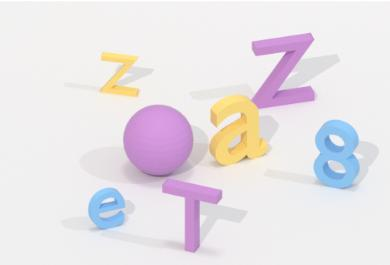0-Tron: (121, 103, 197, 179)
8: (311, 116, 361, 190)
T: (160, 175, 228, 256)
Z: (249, 28, 318, 112), (98, 50, 142, 101)
a: (208, 91, 271, 168)
e: (86, 185, 128, 232)
